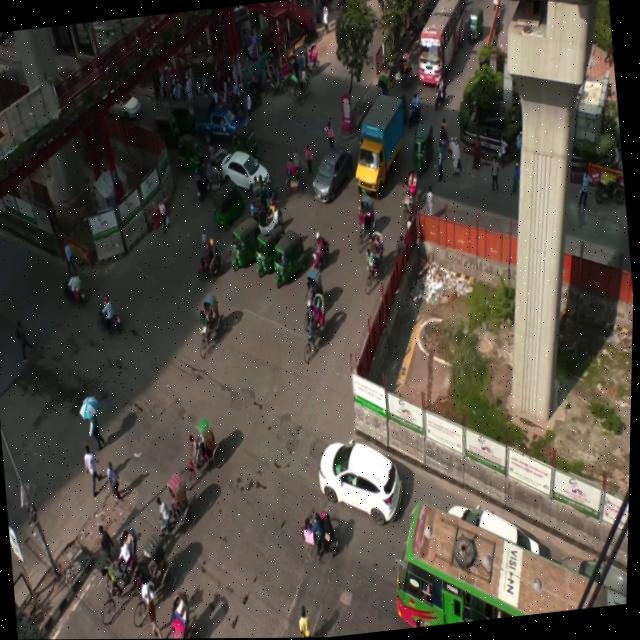cng: (273, 221, 310, 291), (408, 118, 442, 179), (227, 219, 269, 265), (211, 180, 251, 228), (252, 227, 289, 276), (176, 130, 211, 179), (231, 123, 260, 161), (171, 96, 199, 135), (149, 110, 179, 146), (465, 5, 488, 45)
rikshaw: (96, 528, 149, 625), (129, 530, 178, 629), (151, 467, 199, 559), (178, 413, 231, 493), (192, 289, 234, 359), (299, 292, 335, 360), (161, 582, 201, 639), (359, 234, 392, 295), (399, 171, 426, 226), (283, 146, 309, 202), (302, 266, 327, 324), (356, 190, 381, 246), (287, 66, 312, 100), (396, 50, 415, 90), (303, 39, 323, 76), (266, 64, 287, 96), (277, 53, 296, 84)
